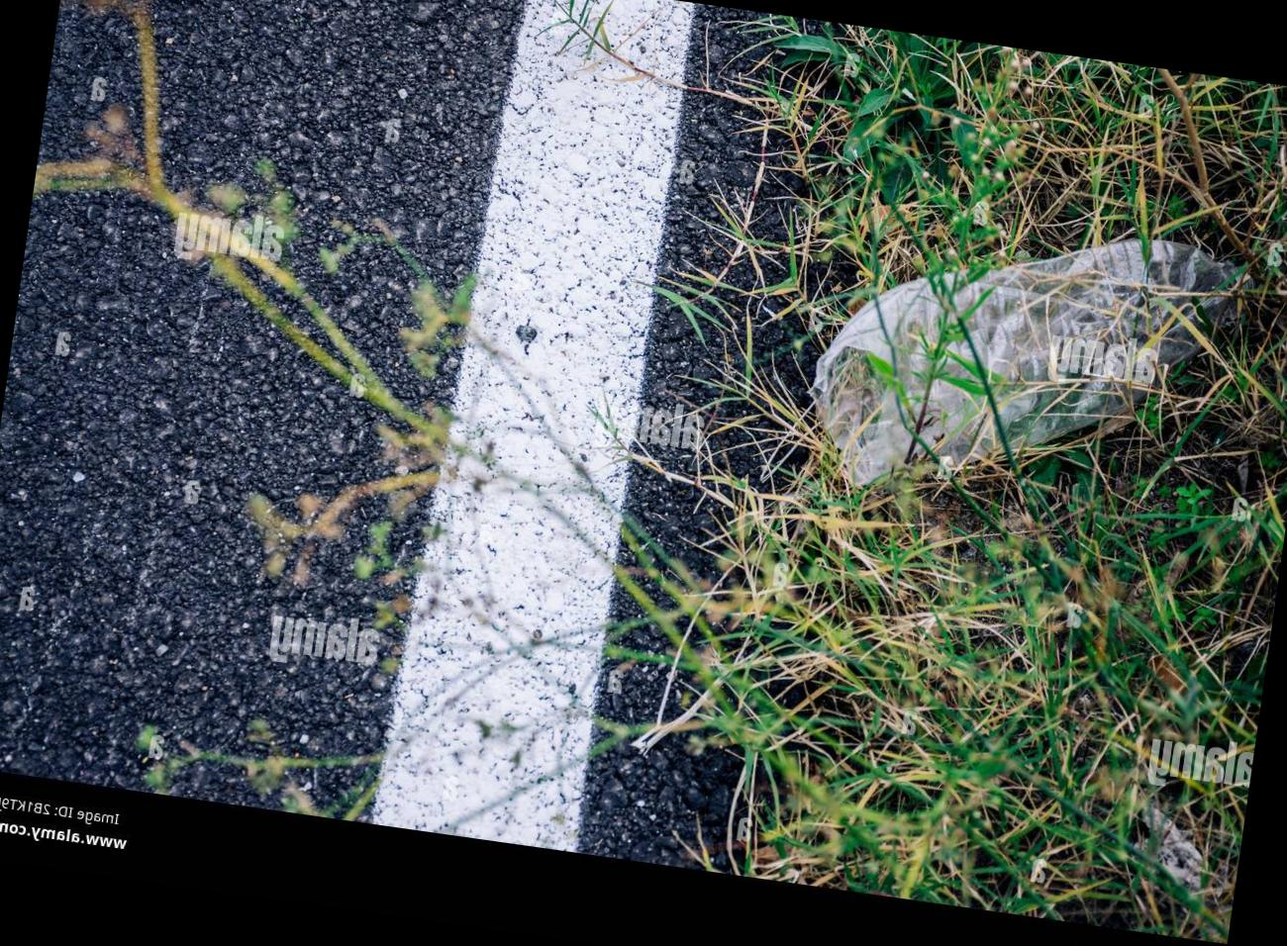road: (0, 0, 522, 817)
